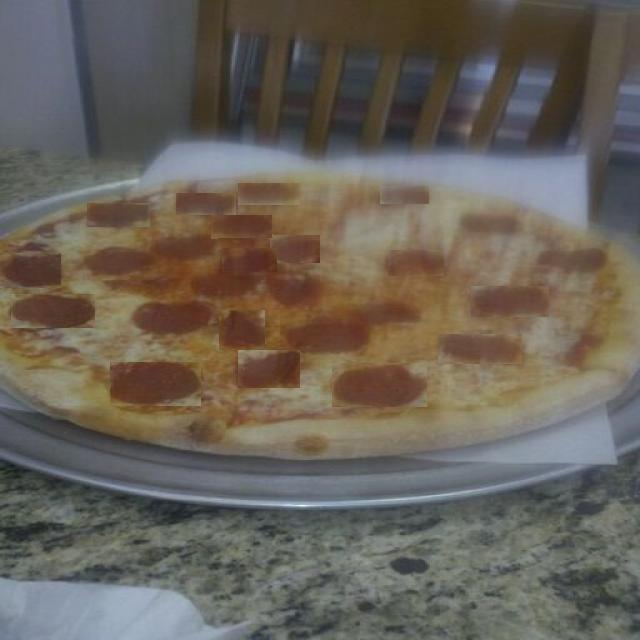pepperoni: (332, 363, 427, 407), (110, 362, 201, 406), (284, 322, 372, 355), (11, 294, 95, 328), (132, 301, 214, 335), (438, 334, 522, 364), (471, 286, 549, 317), (238, 350, 300, 388), (0, 253, 61, 288), (84, 246, 154, 276), (193, 269, 263, 298), (219, 310, 265, 350), (266, 270, 315, 306), (538, 248, 608, 273), (352, 303, 424, 325), (87, 203, 150, 227), (158, 235, 218, 260), (212, 216, 274, 240), (388, 250, 444, 276), (270, 235, 320, 263), (238, 183, 300, 205), (176, 193, 236, 215), (222, 248, 277, 272), (461, 214, 524, 234), (380, 186, 429, 204)
pizza: (0, 175, 640, 459)
